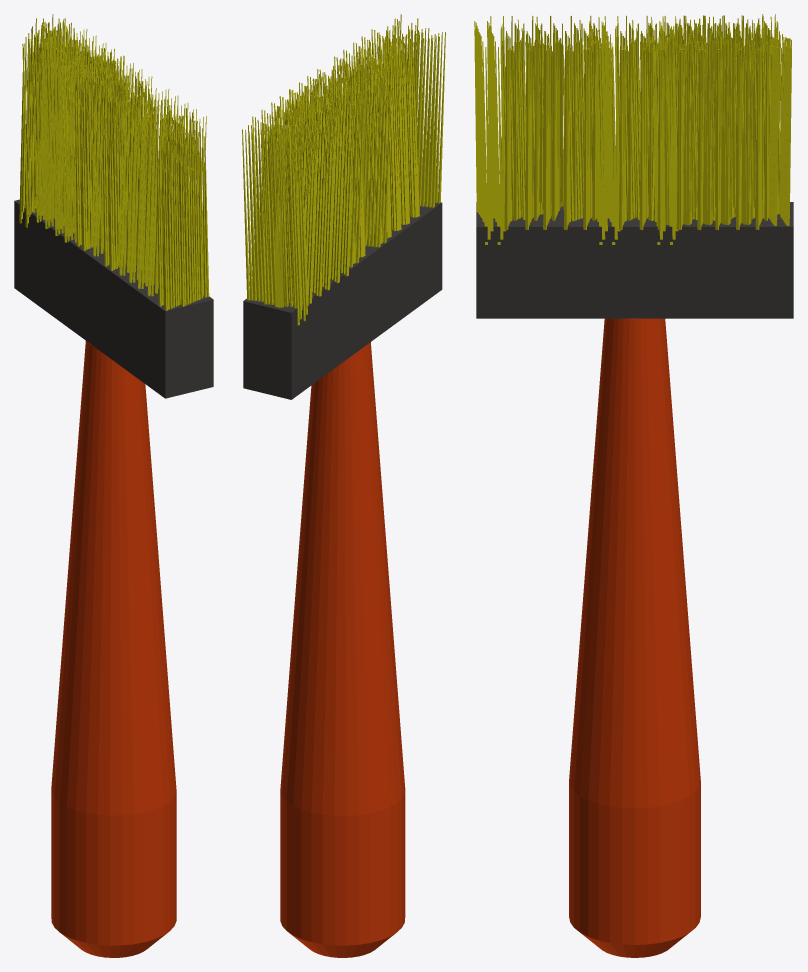
Rendered from Kwastgeel.obj.
3 views of the same model, side by side, from view 1: azimuth 30°, elevation 25°; view 2: azimuth 150°, elevation 25°; view 3: azimuth 270°, elevation 25° (orthographic). The views are drawn at different scales.
Parts seen in each view (by area): view 1: Cylinder, Cube.001_Cube, Cube_Cube.001; view 2: Cylinder, Cube.001_Cube, Cube_Cube.001; view 3: Cylinder, Cube.001_Cube, Cube_Cube.001.
Boxes of the visible parts, x1,y1,x2,y2 form: Cylinder: [51, 341, 176, 957]; Cube.001_Cube: [19, 14, 209, 310]; Cube_Cube.001: [14, 199, 213, 398]; Cylinder: [280, 342, 405, 957]; Cube.001_Cube: [242, 14, 445, 325]; Cube_Cube.001: [243, 202, 442, 399]; Cylinder: [569, 318, 700, 957]; Cube.001_Cube: [474, 14, 791, 244]; Cube_Cube.001: [476, 202, 793, 318].
Bounding box in the file's own units: 2 × 15.44 × 4.84.
